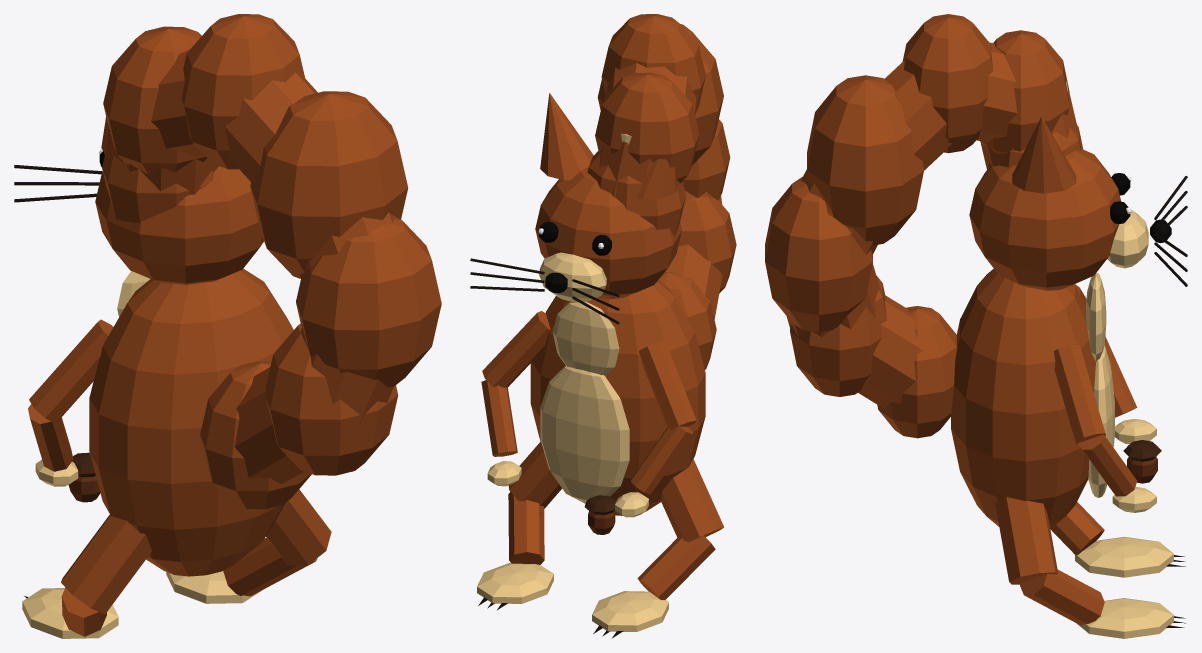
The model's file is stylized_squirrel.obj.
3 views of the same model, side by side, from view 1: azimuth 30°, elevation 25°; view 2: azimuth 150°, elevation 25°; view 3: azimuth 270°, elevation 25° (orthographic). The views are drawn at different scales.
Visible parts, largest first — view 1: Body_rounded_russet_torso, Tail_curled_bushy_segment_04, Tail_curled_bushy_segment_03, Head_round_cute, Tail_curled_bushy_segment_05, Tail_curled_bushy_segment_02, Tail_curled_bushy_segment_06, Tail_curled_bushy_segment_01, Left_thigh, Tail_soft_connector_04, Tail_soft_connector_01, Left_upper_arm (+14 smaller); view 2: Body_rounded_russet_torso, Head_round_cute, Belly_soft_cream_patch, Tail_curled_bushy_segment_06, Tail_curled_bushy_segment_05, Chest_small_cream_patch, Tail_curled_bushy_segment_02, Left_thigh, Tail_curled_bushy_segment_07, Right_triangular_ear, Left_upper_arm, Right_hind_foot_long (+20 smaller); view 3: Body_rounded_russet_torso, Head_round_cute, Tail_curled_bushy_segment_04, Tail_curled_bushy_segment_03, Tail_curled_bushy_segment_05, Tail_curled_bushy_segment_06, Tail_curled_bushy_segment_01, Tail_curled_bushy_segment_02, Right_thigh, Tail_soft_connector_01, Left_hind_foot_long, Tail_soft_connector_04 (+17 smaller).
Part boxes in pixels (x1,y1,x2,y2): Body_rounded_russet_torso: (89, 268, 293, 576); Tail_curled_bushy_segment_04: (250, 91, 408, 278); Tail_curled_bushy_segment_03: (296, 218, 441, 387); Head_round_cute: (95, 166, 263, 284); Tail_curled_bushy_segment_05: (181, 14, 305, 169); Tail_curled_bushy_segment_02: (265, 323, 398, 475); Tail_curled_bushy_segment_06: (103, 26, 207, 174); Tail_curled_bushy_segment_01: (200, 361, 311, 509); Left_thigh: (61, 514, 151, 614); Tail_soft_connector_04: (224, 72, 317, 182); Tail_soft_connector_01: (234, 367, 305, 484); Left_upper_arm: (29, 319, 113, 423); Body_rounded_russet_torso: (530, 280, 705, 515); Head_round_cute: (535, 166, 681, 299); Belly_soft_cream_patch: (540, 366, 629, 503); Tail_curled_bushy_segment_06: (595, 72, 699, 182); Tail_curled_bushy_segment_05: (601, 14, 705, 115); Chest_small_cream_patch: (552, 301, 619, 376); Tail_curled_bushy_segment_02: (678, 196, 736, 293); Left_thigh: (660, 458, 723, 541); Tail_curled_bushy_segment_07: (587, 151, 685, 237); Right_triangular_ear: (540, 93, 593, 180); Left_upper_arm: (638, 341, 696, 430); Right_hind_foot_long: (477, 563, 553, 603); Body_rounded_russet_torso: (951, 268, 1095, 528); Head_round_cute: (969, 149, 1120, 290); Tail_curled_bushy_segment_04: (807, 75, 923, 245); Tail_curled_bushy_segment_03: (765, 176, 872, 332); Tail_curled_bushy_segment_05: (902, 14, 993, 153); Tail_curled_bushy_segment_06: (980, 30, 1069, 153); Tail_curled_bushy_segment_01: (877, 306, 956, 438); Tail_curled_bushy_segment_02: (790, 275, 886, 396); Right_thigh: (995, 497, 1057, 584); Tail_soft_connector_01: (858, 295, 922, 408); Left_hind_foot_long: (1075, 536, 1173, 577); Tail_soft_connector_04: (884, 60, 951, 170).
Size of the model in its own units: 1.02 by 2.48 by 1.63.
